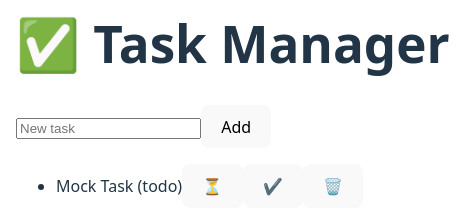
Test: deletes task
Click the button "🗑️".
click(333, 186)  # box [303,164,363,208]
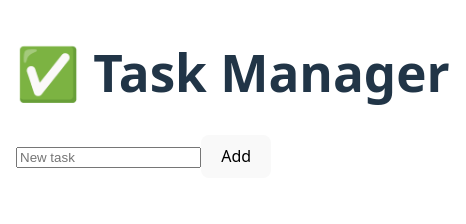
Expected: the list item "Mock Task" is gone
